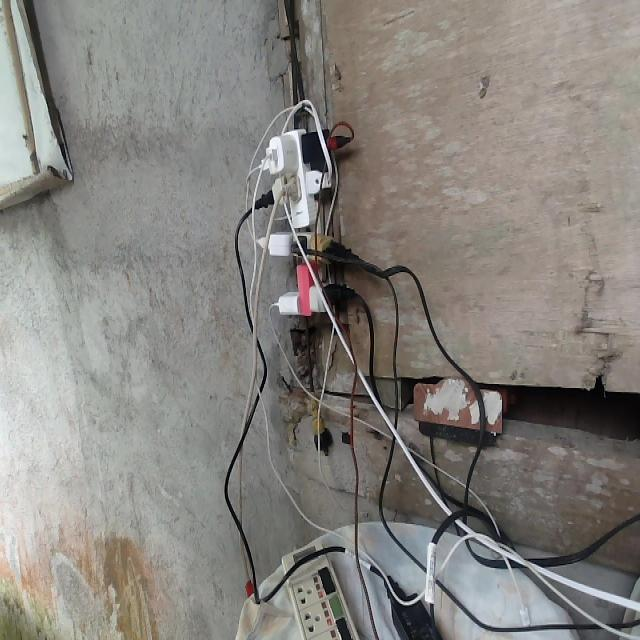-: (248, 127, 360, 316)
